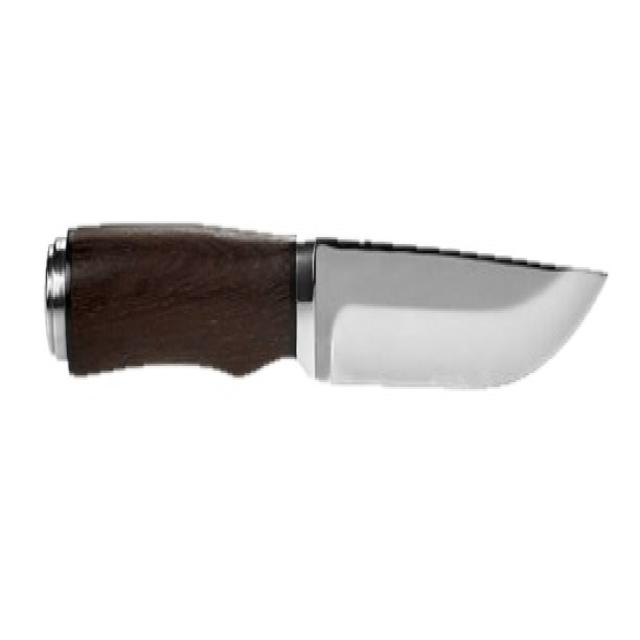knife: (44, 229, 614, 384)
